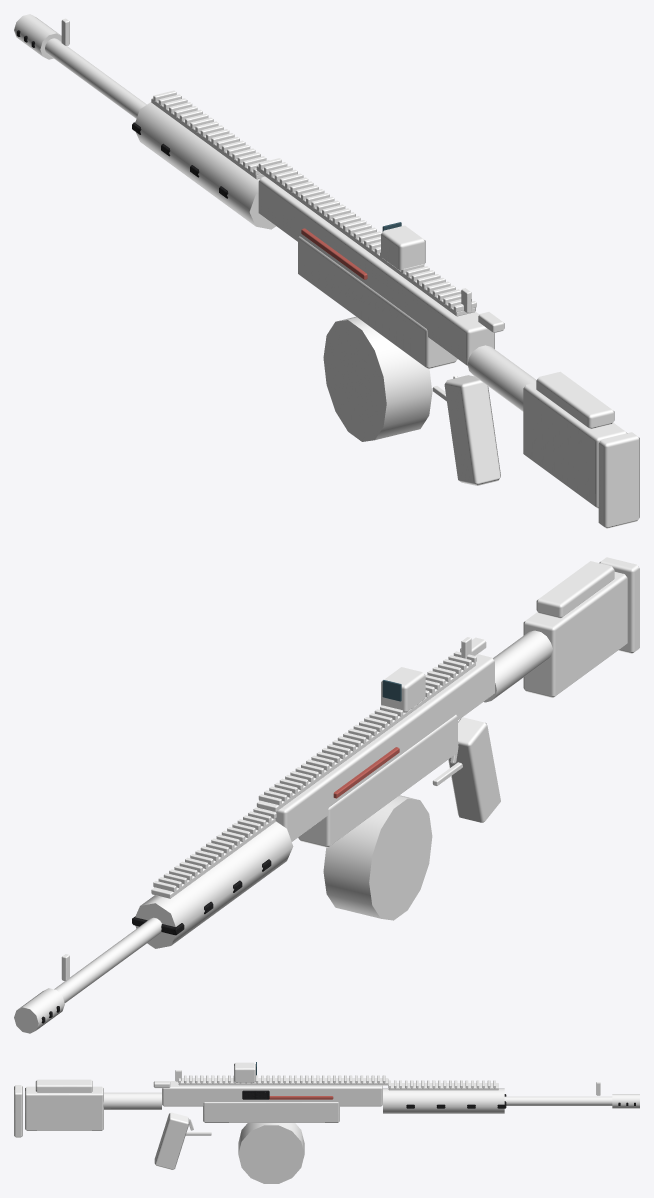
The model's file is reaper.glb.
3 renders of one model, top to bottom at view 1: azimuth 30°, elevation 25°; view 2: azimuth 150°, elevation 25°; view 3: azimuth 270°, elevation 25°, orthographic. The views are drawn at different scales.
Bounding box in the file's own units: 0.05 × 0.2275 × 1.13.
5 materials, 1 textured.
